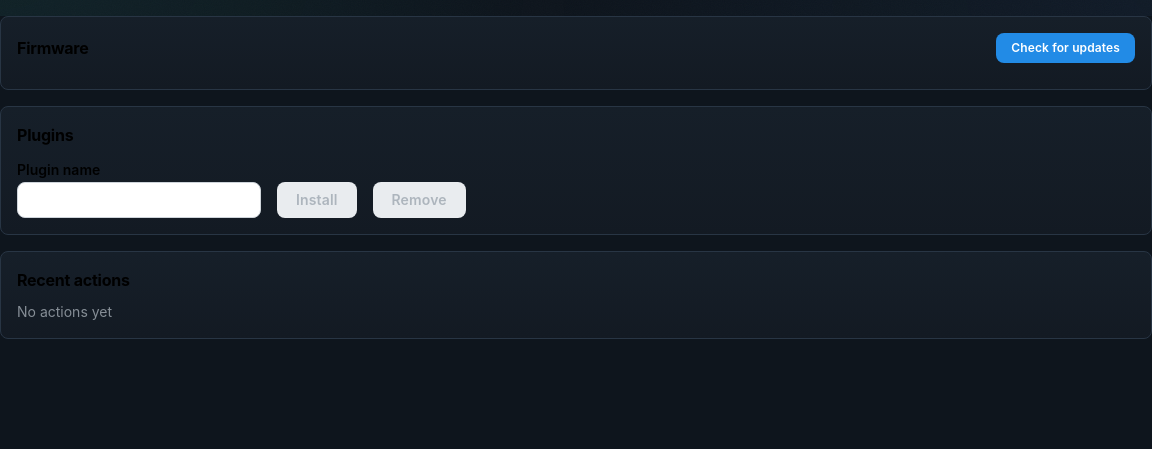
Test: FirmwareActions › runs a firmware check and shows the result
The image size is (1152, 449).
Click the button with test id "btn-fw-check" at x=1066, y=48, box [996,33,1135,63]
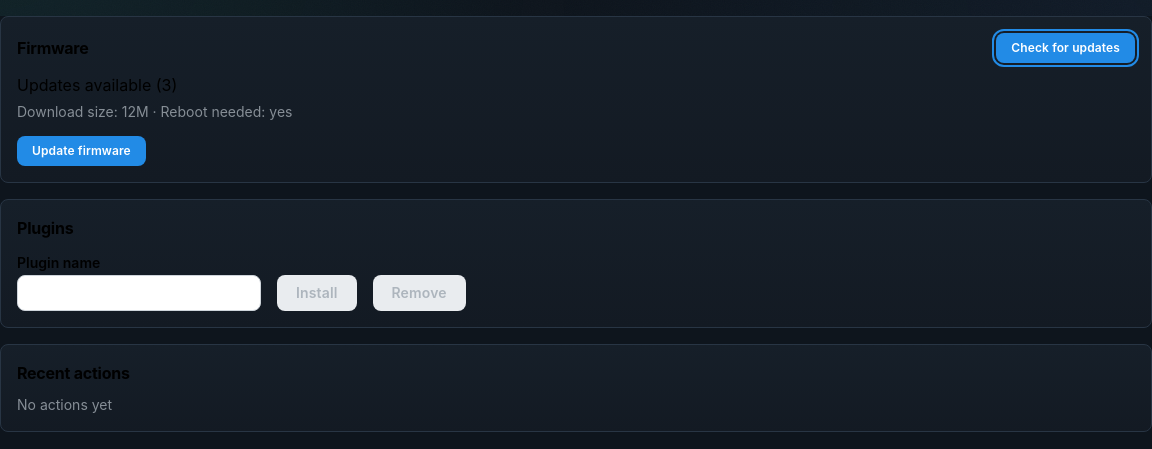
expect the text "Updates available (3)" is shown: met, box [17,75,177,95]
expect the button with test id "btn-fw-update" is enabled: met, box [17,136,146,166]
